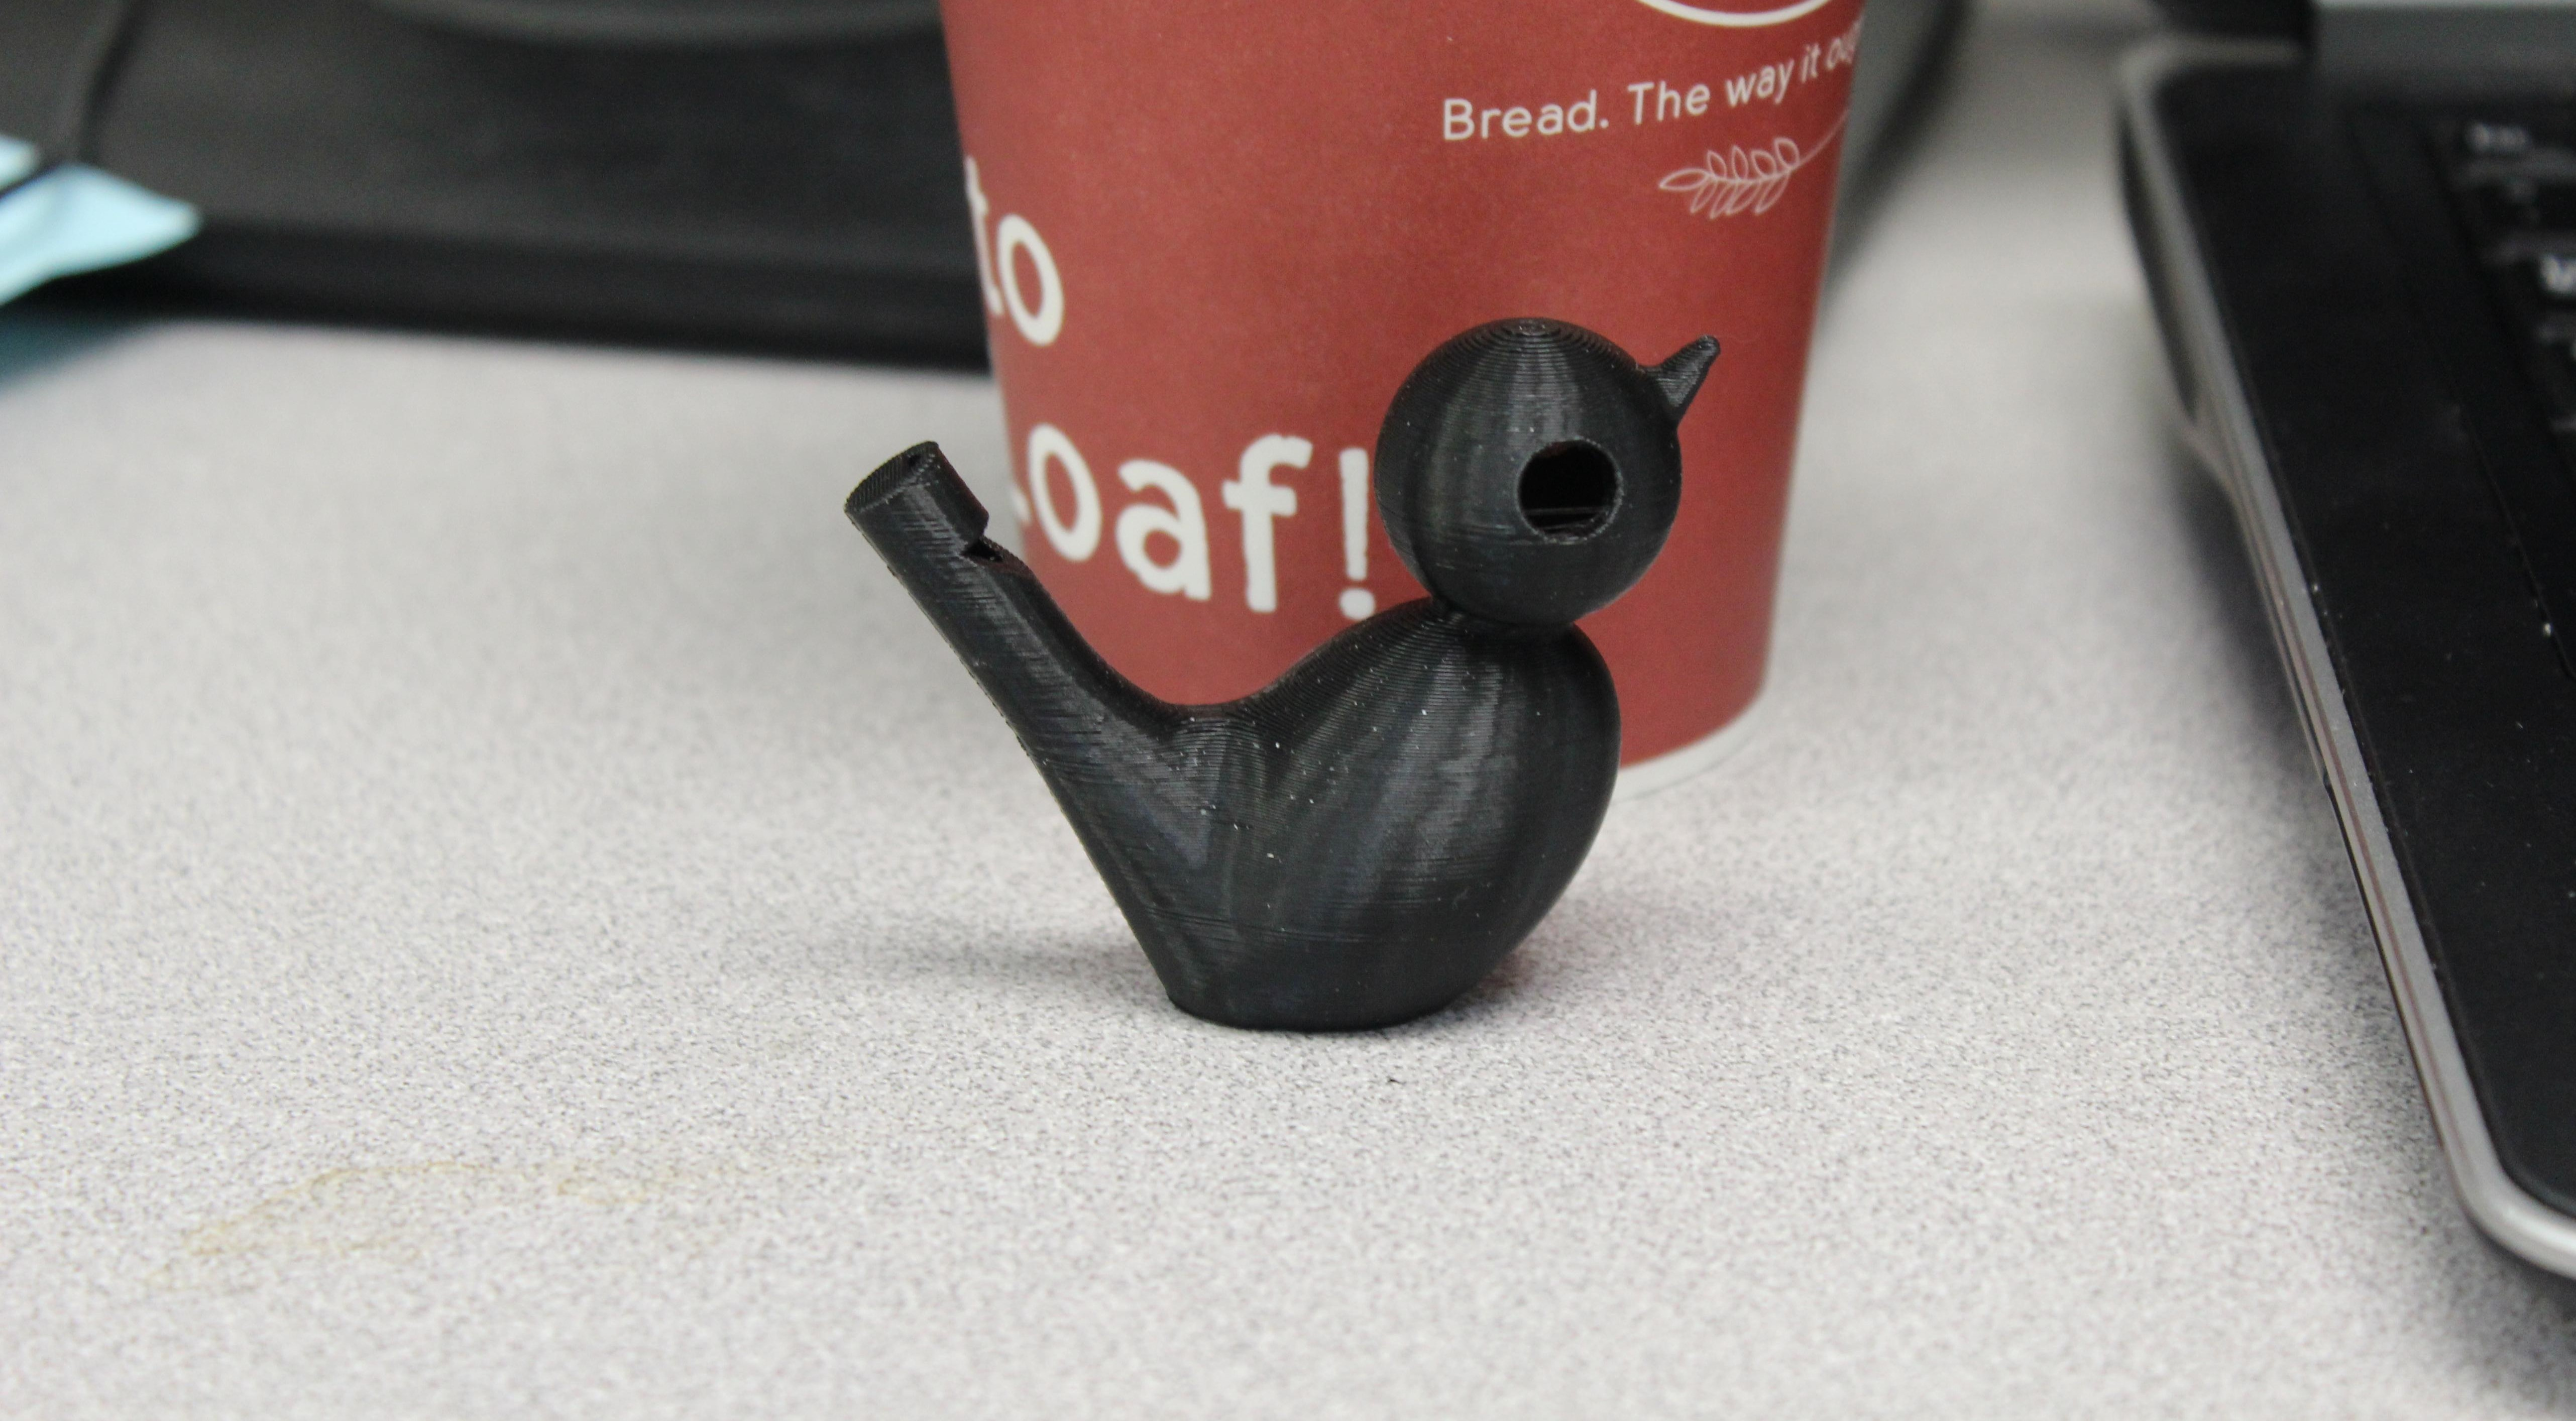birdCall: (804, 282, 1779, 1103)
